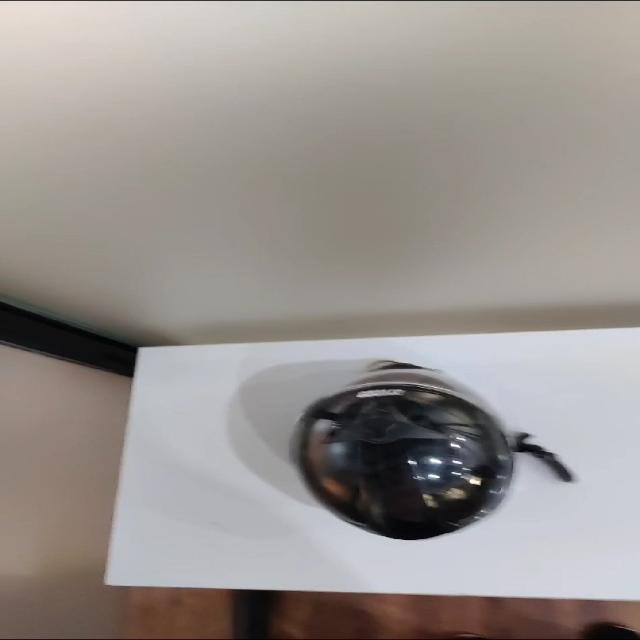helmet: (294, 361, 572, 538)
